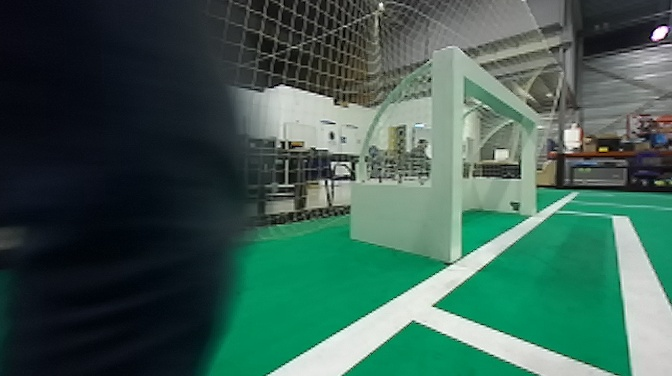goalpost: (428, 44, 465, 257), (516, 110, 541, 220)
